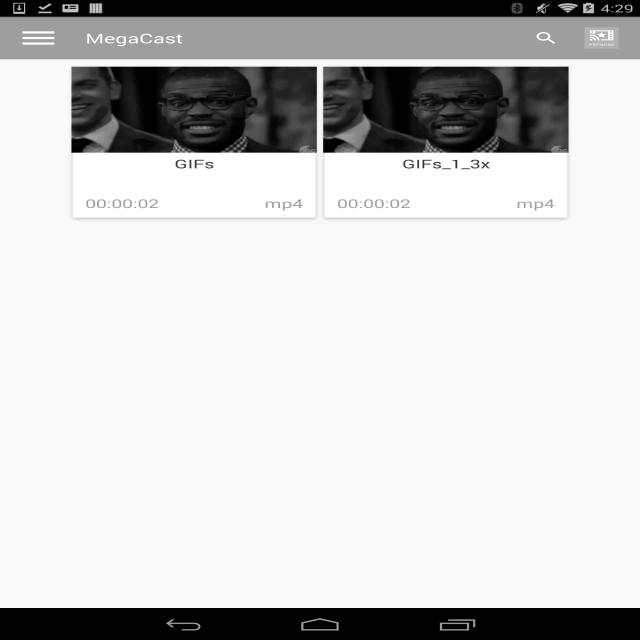ImageButton: (9, 17, 68, 59)
ImageView: (71, 66, 317, 152), (323, 66, 569, 152), (117, 95, 271, 149), (369, 95, 523, 149), (520, 22, 572, 54)
TextView: (72, 155, 316, 186), (324, 155, 568, 186), (572, 22, 631, 54), (85, 29, 183, 47), (85, 195, 159, 211), (337, 195, 411, 211), (264, 195, 303, 211), (516, 195, 555, 211)
